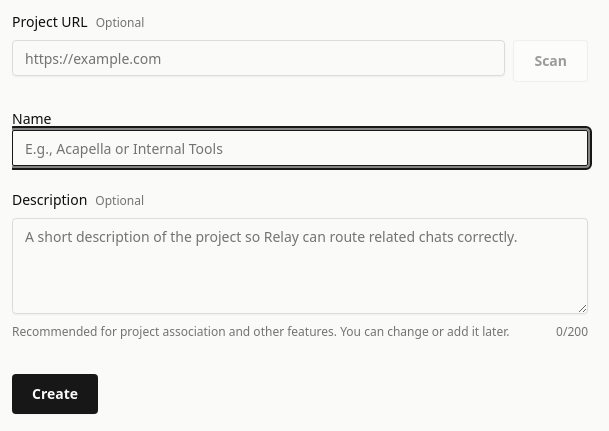
Test case: CreateProjectForm › shows the description guidance, live counter, and limits the textarea to 200 characters
Expected: the text "Recommended for project association and other features. You can change or add it later." is shown, 12,323 -> 510,340
Expected: the text "0/200" is shown, 556,322 -> 588,342
Replace the text in the text box with placeholder "A short description of the project so Relay can route related chats correctly." with "abc" at (300,266), box 12,218 -> 588,314
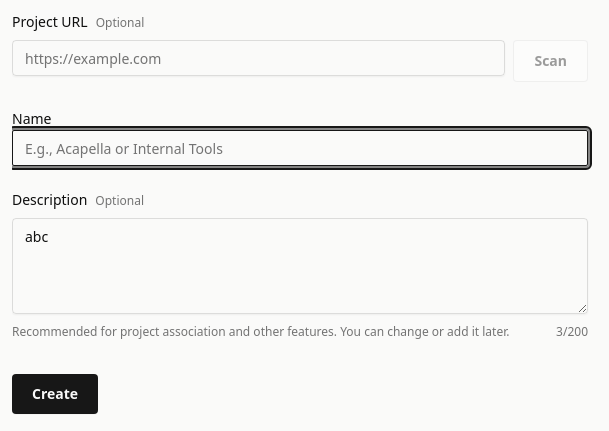
Result: the text "3/200" is shown at 556,322 -> 588,342
